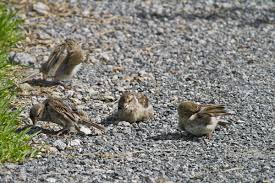hsparrow: (29, 96, 108, 136), (39, 35, 86, 90), (175, 99, 234, 137), (114, 90, 156, 124)
